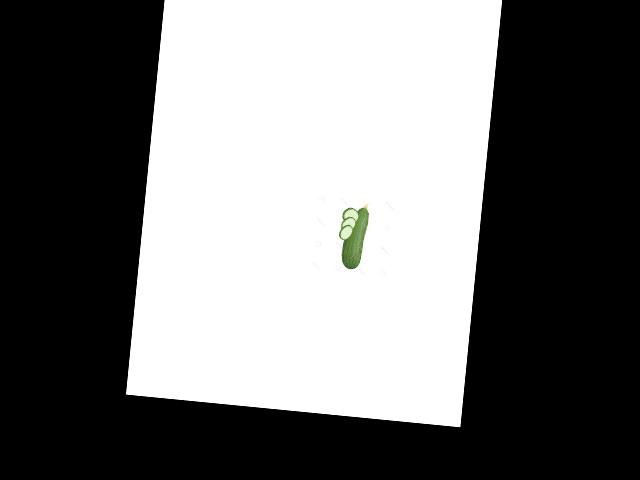cucumber: (340, 202, 369, 271)
